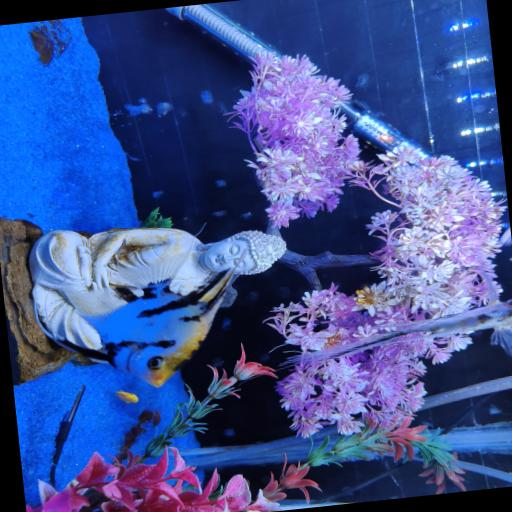Fish: (39, 268, 233, 386), (282, 273, 511, 365), (111, 391, 138, 403), (499, 226, 511, 246)
